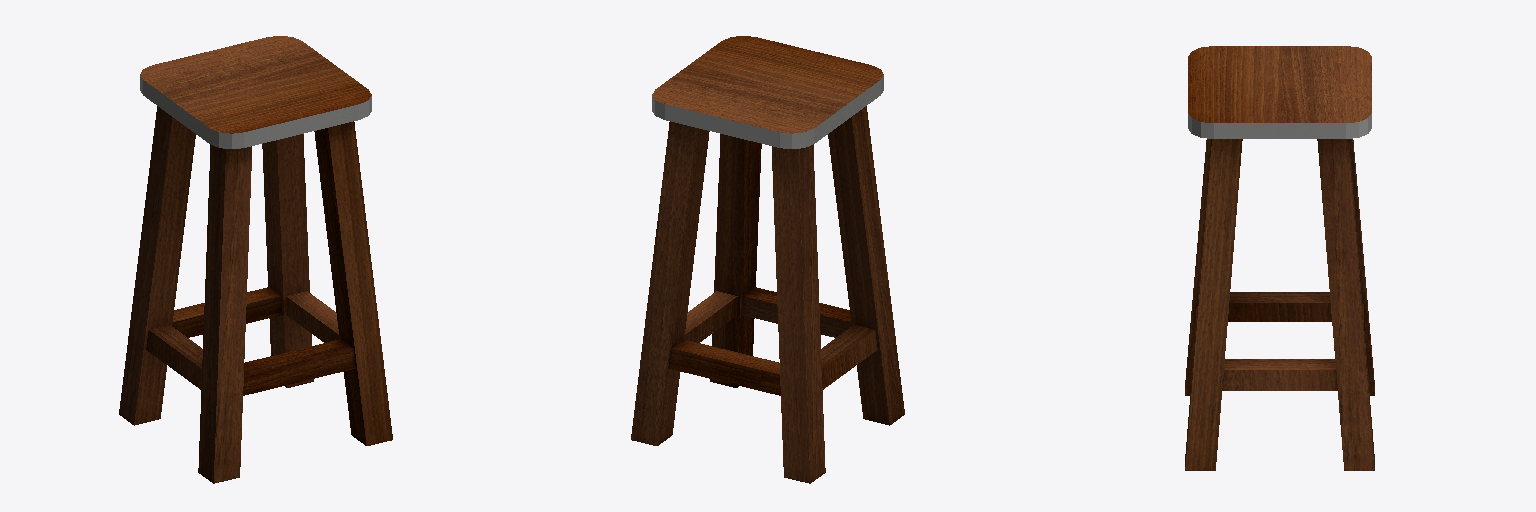
3 views of the same model, side by side, from view 1: azimuth 30°, elevation 25°; view 2: azimuth 150°, elevation 25°; view 3: azimuth 270°, elevation 25° (orthographic).
Parts seen in each view (by area): view 1: Cube.024_Cube.062; view 2: Cube.024_Cube.062; view 3: Cube.024_Cube.062.
Part boxes in pixels (bbox=[...]): Cube.024_Cube.062: bbox=[119, 36, 392, 483]; Cube.024_Cube.062: bbox=[631, 36, 904, 483]; Cube.024_Cube.062: bbox=[1185, 46, 1374, 470].
Size of the model in its own units: 1.63 by 2.97 by 1.49.
Materials: 2 (1 with a texture image).